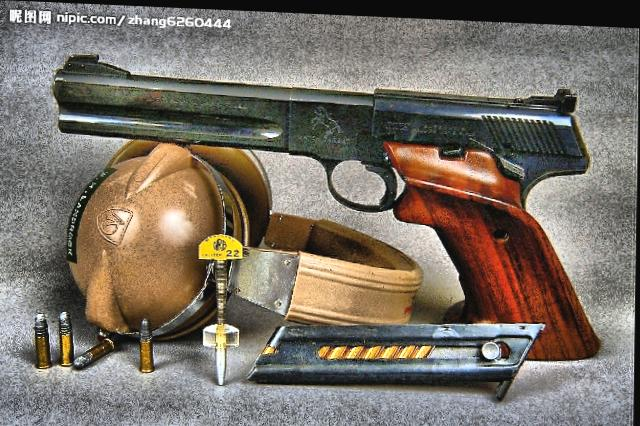pistol: (46, 48, 605, 363)
